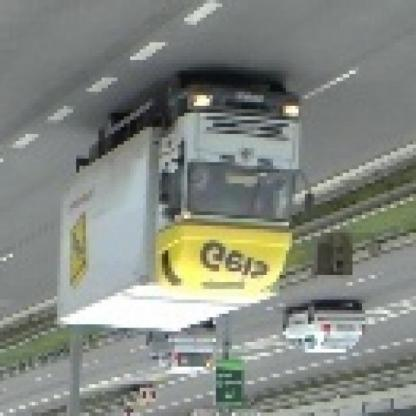truck: (58, 79, 318, 336)
